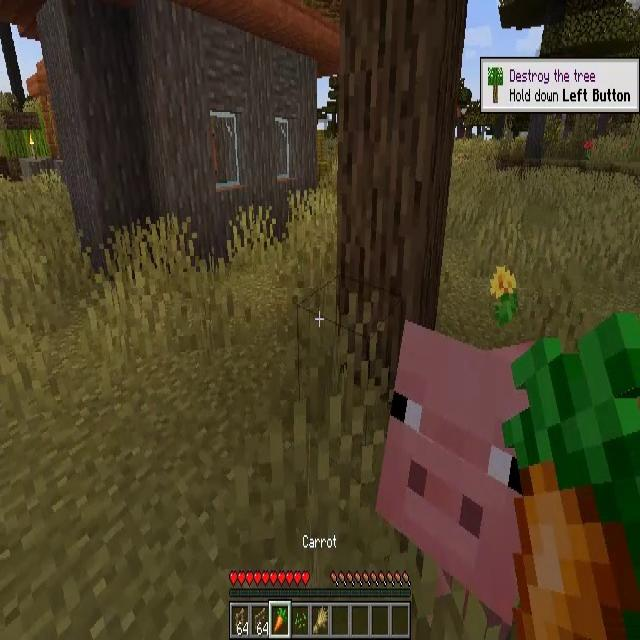flower: (490, 265, 518, 322)
pig: (381, 321, 552, 625)
